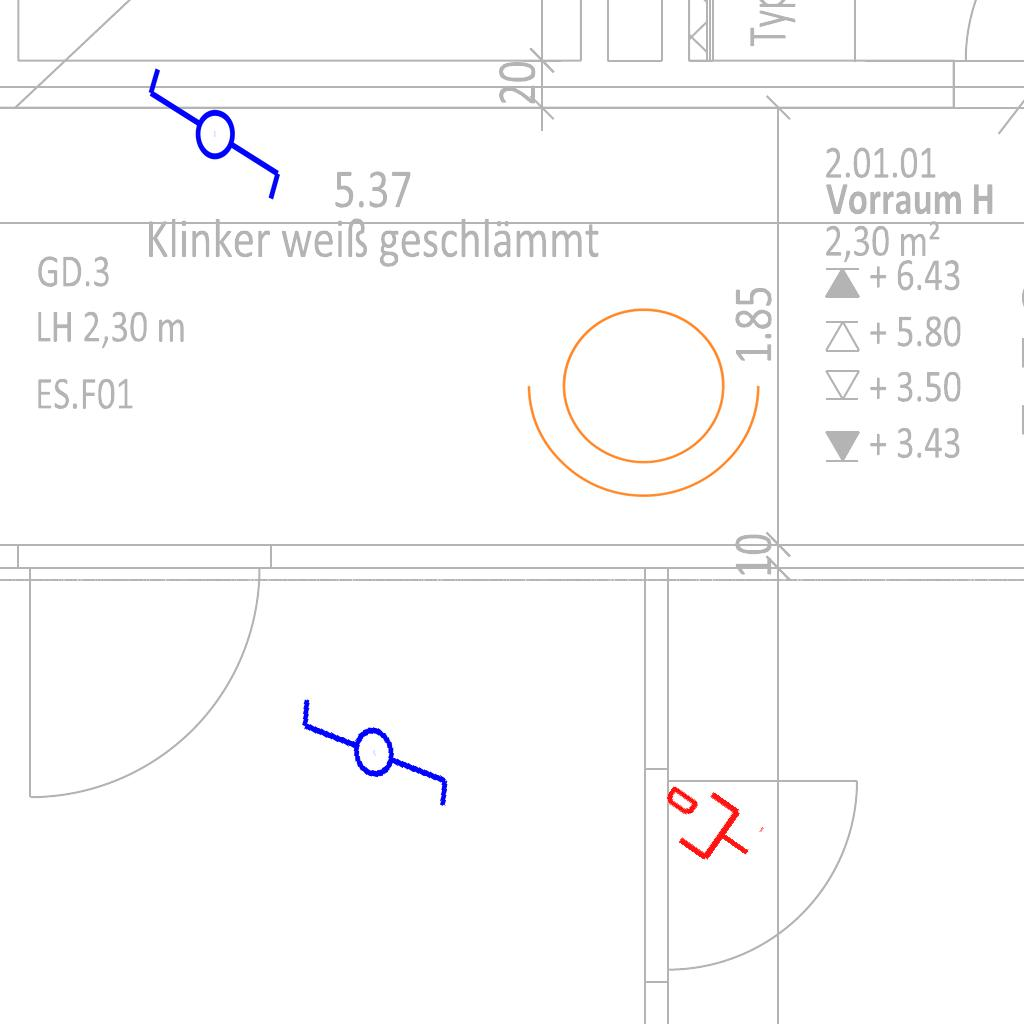Datenanschluss_einfach: (646, 768, 769, 882)
Scheinwerfer_fuer_Alarmbeleuchtung: (518, 283, 782, 508)
Wechselschalter: (288, 653, 461, 835), (141, 64, 285, 221)
